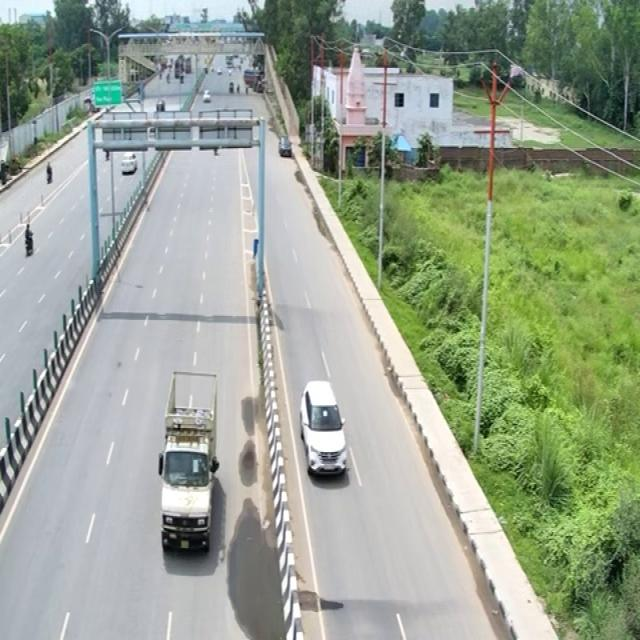car: (394, 281, 471, 362)
